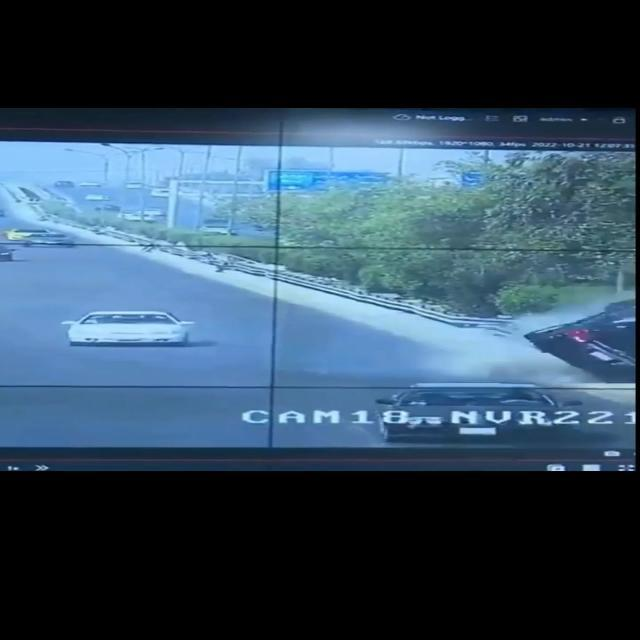accident: (460, 308, 640, 380)
non_accident: (73, 303, 202, 365), (5, 217, 80, 255), (0, 236, 26, 263)
